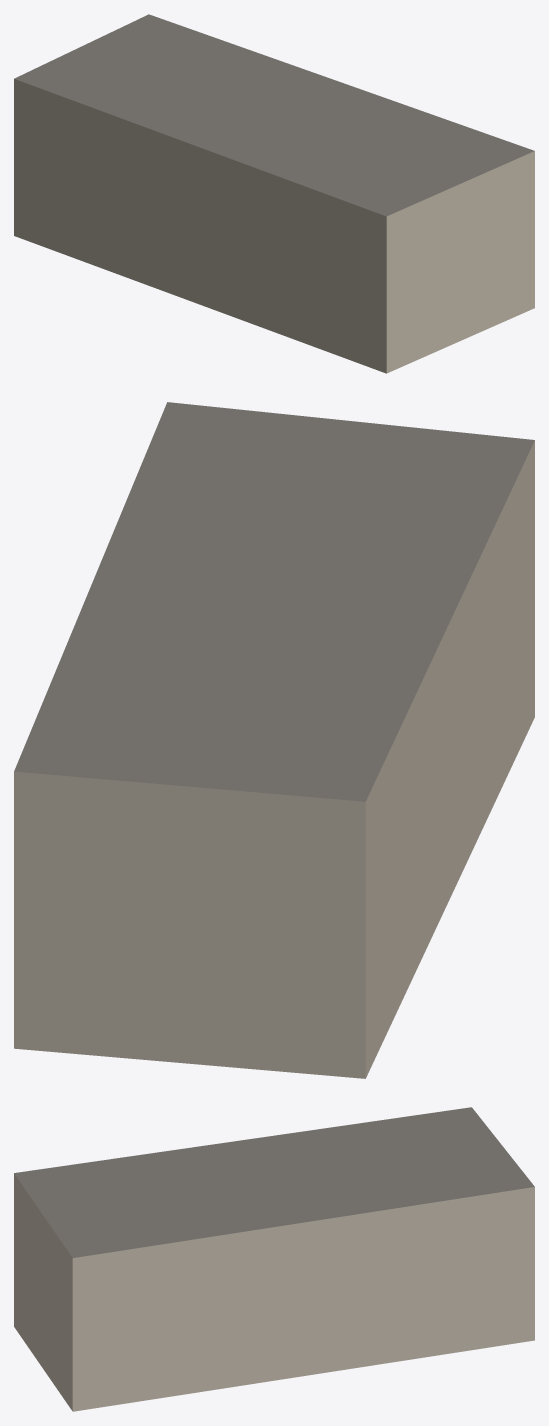
3 views of the same model, one above another, from view 1: azimuth 30°, elevation 25°; view 2: azimuth 150°, elevation 25°; view 3: azimuth 270°, elevation 25° (orthographic). The views are drawn at different scales.
Parts seen in each view (by area): view 1: HP-w1512800289; view 2: HP-w1512800289; view 3: HP-w1512800289.
Boxes of the visible parts, left/top/right/bottom form: HP-w1512800289: left=14, top=14, right=534, bottom=373; HP-w1512800289: left=14, top=402, right=534, bottom=1078; HP-w1512800289: left=14, top=1107, right=534, bottom=1411.
Bounding box in the file's own units: 37.96 × 18 × 55.34.
